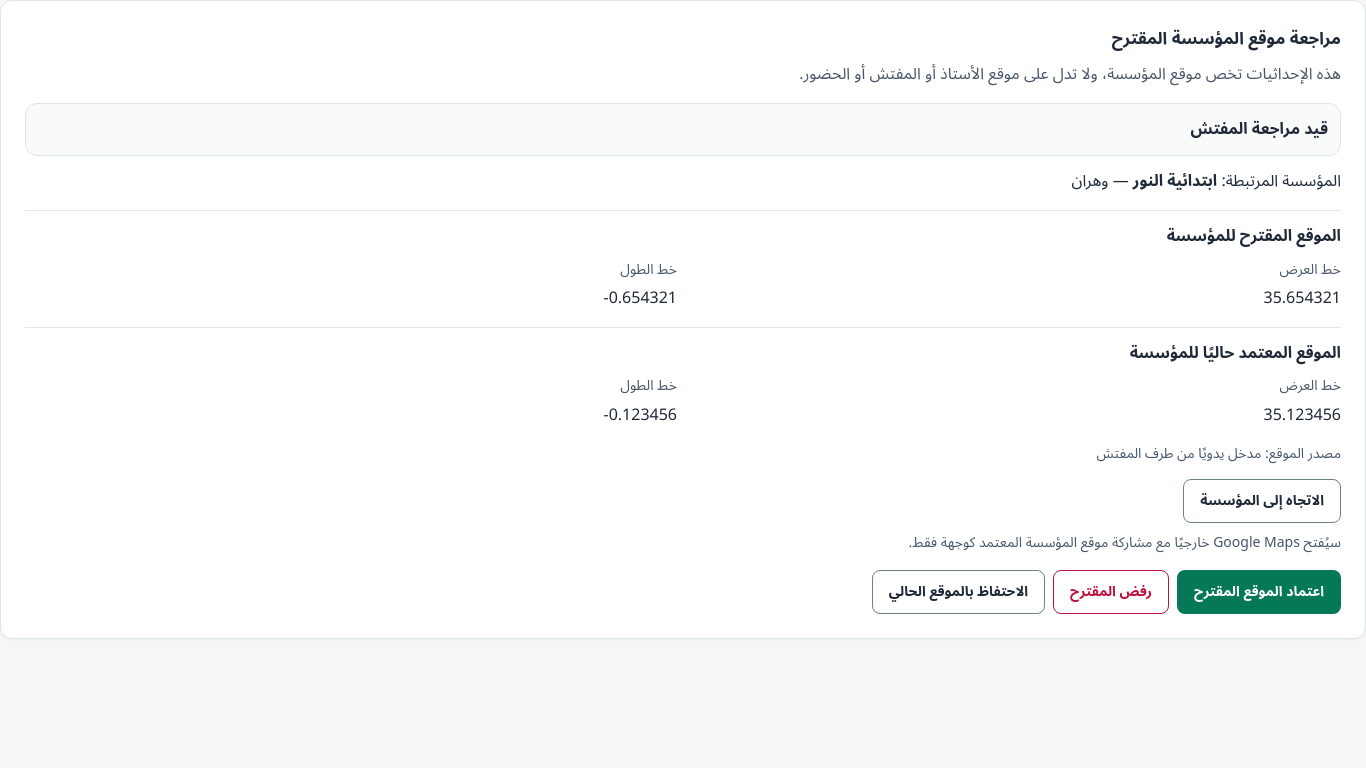
Test: TASK-077D institution location proposal review › sends exact expected snapshot for keep-current and refreshes persisted decision
What coordinates should you click on to do the following:
click the button "الاحتفاظ بالموقع الحالي"
I would click on:
 (958, 592)
Its box is [872, 570, 1045, 614].
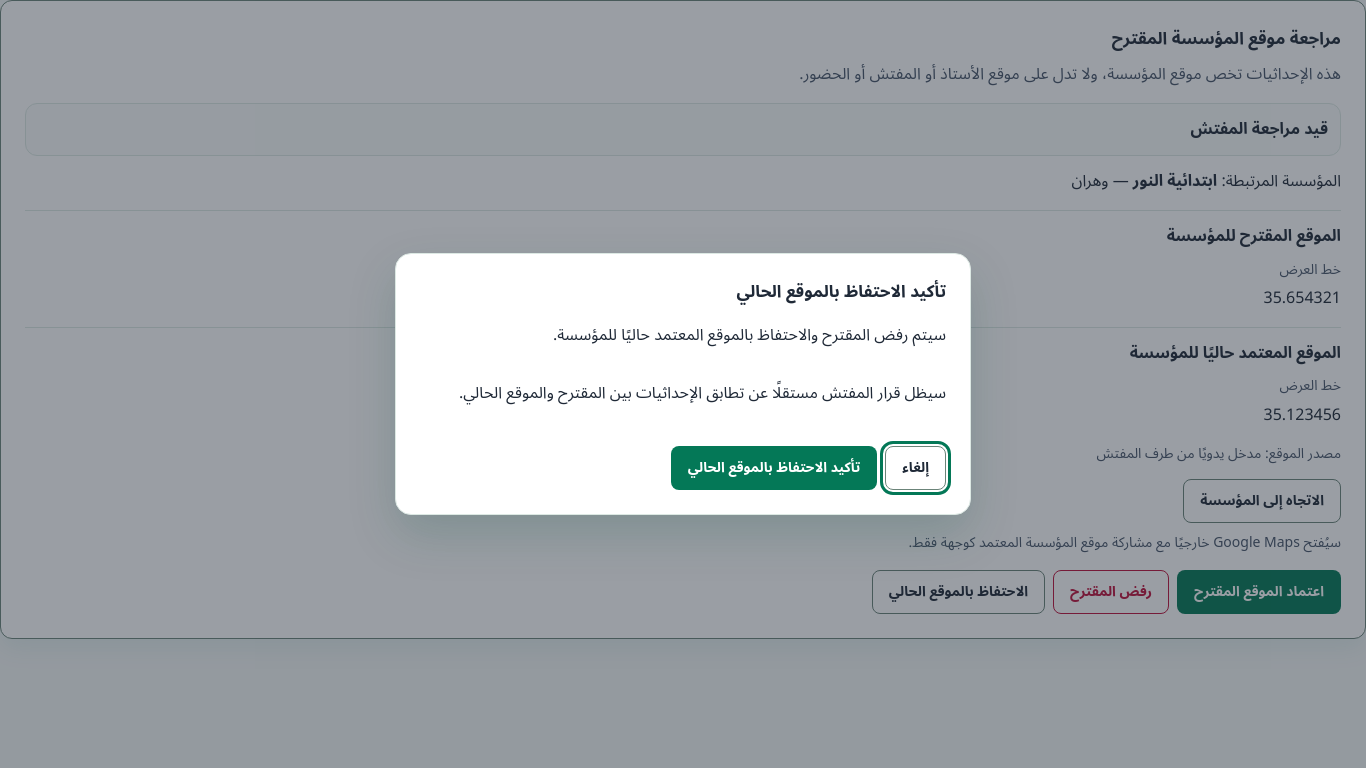
What coordinates should you click on to do the following:
click the button "تأكيد الاحتفاظ بالموقع الحالي"
I would click on:
 (774, 468)
Its box is [671, 446, 877, 490].
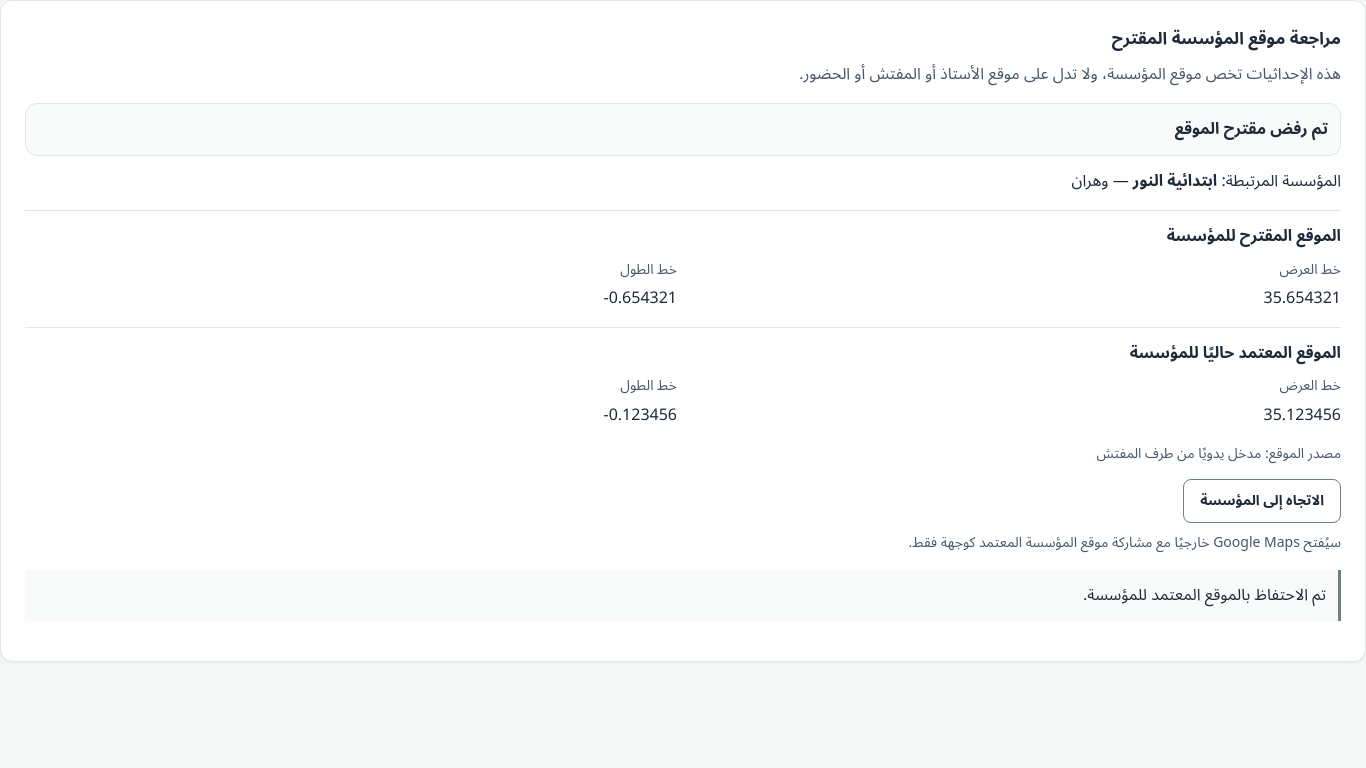
Expected: the text "تم الاحتفاظ بالموقع المعتمد للمؤسسة." is shown, [25, 570, 1341, 621]
